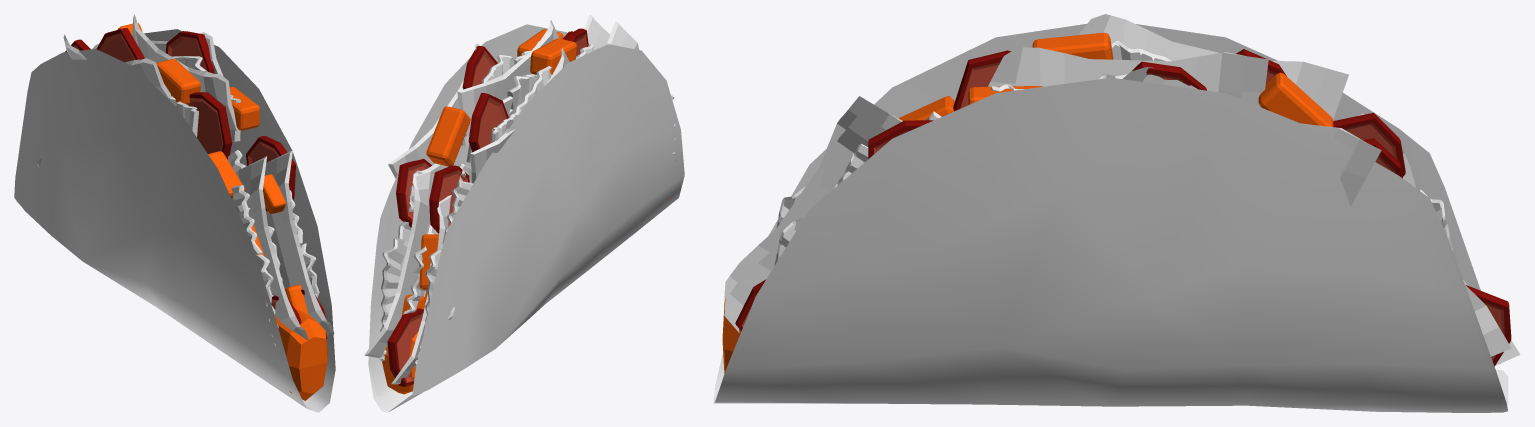
File: TacoTaco.fbx
3 renders of one model, left to right at view 1: azimuth 30°, elevation 25°; view 2: azimuth 150°, elevation 25°; view 3: azimuth 270°, elevation 25°, orthographic. The views are drawn at different scales.
Parts seen in each view (by area): view 1: Cube; view 2: Cube; view 3: Cube.
Part boxes in pixels (x1=…): Cube: x1=14, y1=14, x2=335, y2=412; Cube: x1=364, y1=14, x2=684, y2=412; Cube: x1=713, y1=14, x2=1520, y2=412.
Size of the model in its own units: 25.79 by 152 by 78.17.
